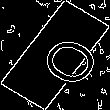O_NW: (17, 23, 93, 87)
